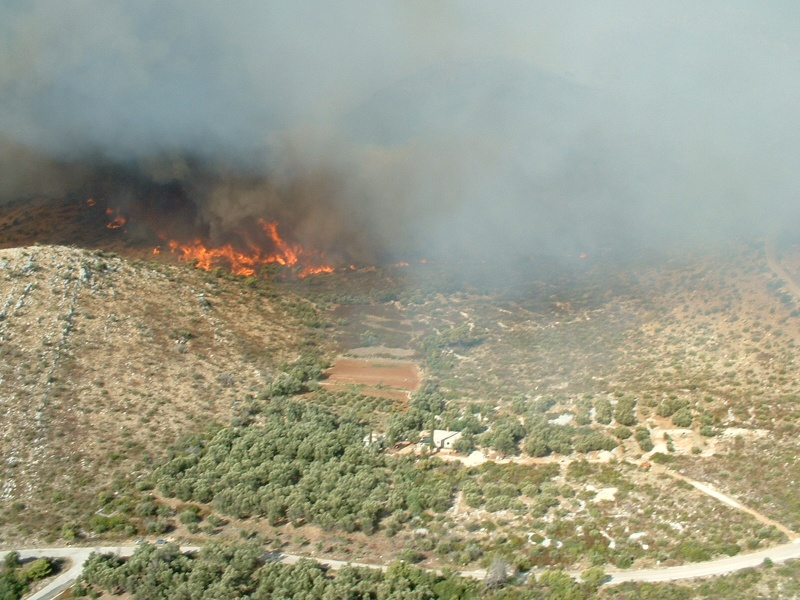smoke: (12, 1, 743, 245)
